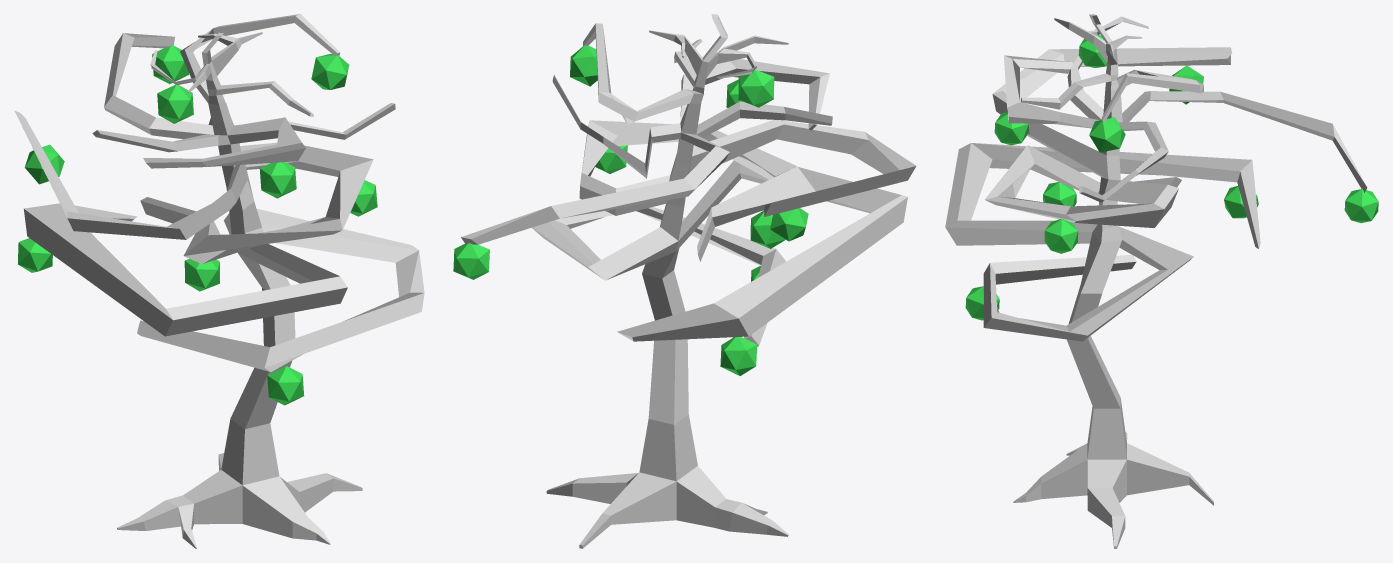
Rendered from Test Tree.fbx.
3 views of the same model, side by side, from view 1: azimuth 30°, elevation 25°; view 2: azimuth 150°, elevation 25°; view 3: azimuth 270°, elevation 25° (orthographic). The views are drawn at different scales.
Parts seen in each view (by area): view 1: Cube; view 2: Cube; view 3: Cube.
Boxes of the visible parts, bbox=[...] form: Cube: bbox=[14, 14, 424, 548]; Cube: bbox=[453, 14, 916, 548]; Cube: bbox=[945, 14, 1378, 548].
Size of the model in its own units: 1979 by 2605 by 2200.
